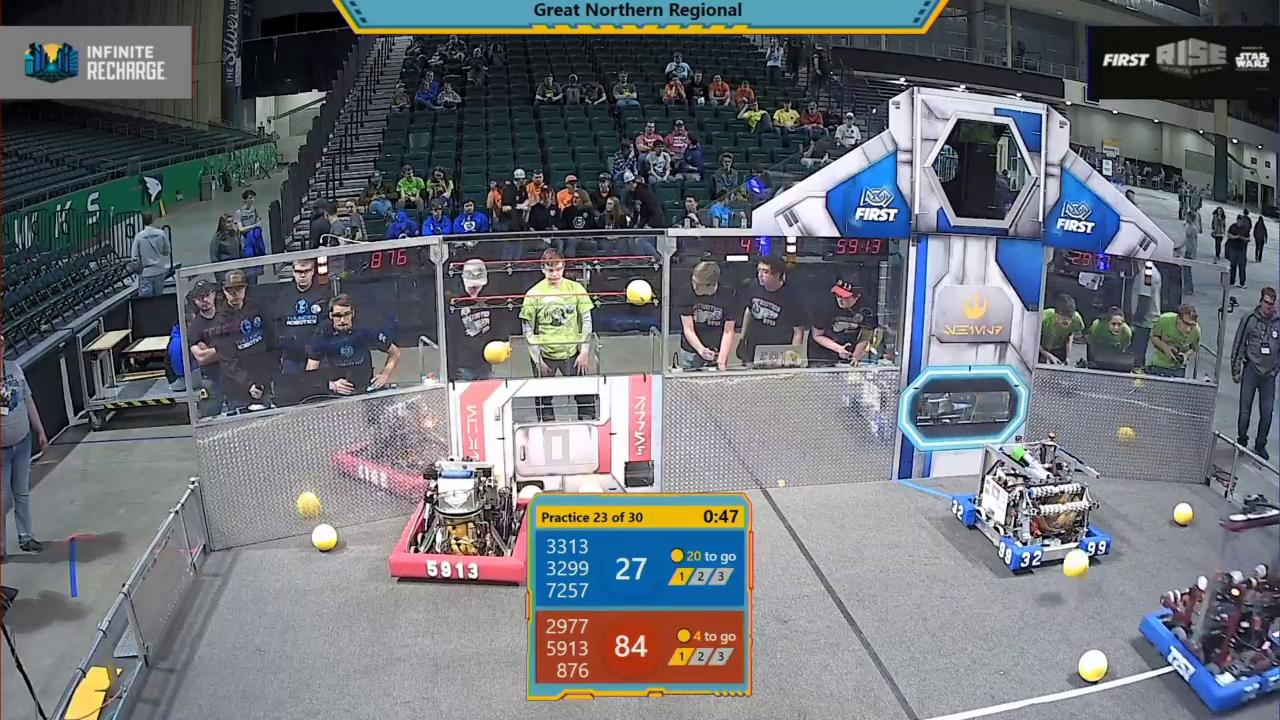robot: (945, 439, 1107, 569), (1137, 565, 1279, 713), (385, 452, 530, 579)
